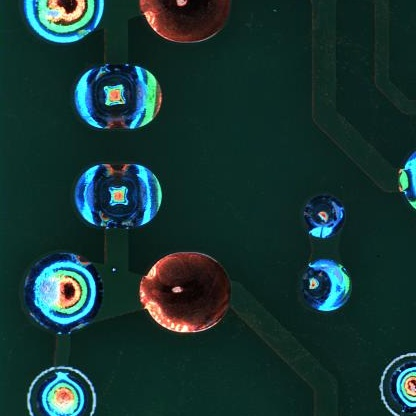spot: (23, 251, 103, 332), (73, 65, 163, 131), (73, 162, 163, 225), (298, 258, 353, 314), (303, 193, 345, 240), (39, 376, 85, 416)
